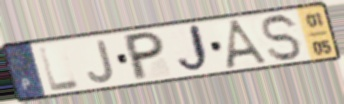A: (223, 17, 274, 70)
J: (175, 22, 213, 76), (85, 38, 117, 85)
L: (36, 43, 82, 94)
P: (124, 29, 166, 83)
S: (260, 13, 305, 64)
